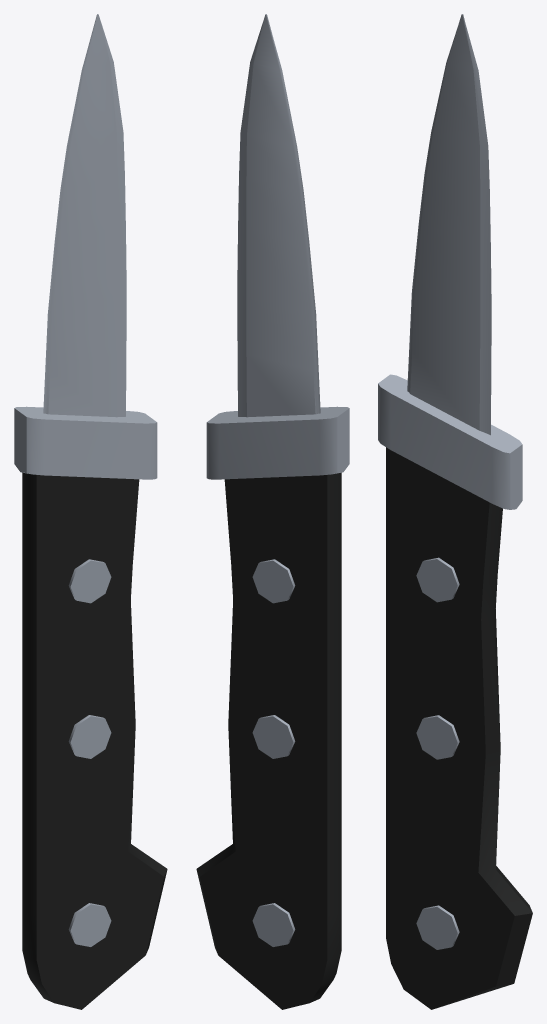
Rendered from cooking_assets_peeling_knife_swx8v2epgo.glb.
3 renders of one model, left to right at view 1: azimuth 30°, elevation 25°; view 2: azimuth 150°, elevation 25°; view 3: azimuth 330°, elevation 25°, orthographic.
Parts seen in each view (by area): view 1: knife_peeling_knife.002_Cube.012; view 2: knife_peeling_knife.002_Cube.012; view 3: knife_peeling_knife.002_Cube.012.
Boxes of the visible parts, left/top/right/bottom form: knife_peeling_knife.002_Cube.012: left=14, top=14, right=167, bottom=1009; knife_peeling_knife.002_Cube.012: left=196, top=14, right=349, bottom=1009; knife_peeling_knife.002_Cube.012: left=378, top=14, right=532, bottom=1009.
Bounding box in the file's own units: 0.6414 × 4.1 × 0.1374.
Materials: 1 (1 with a texture image).
